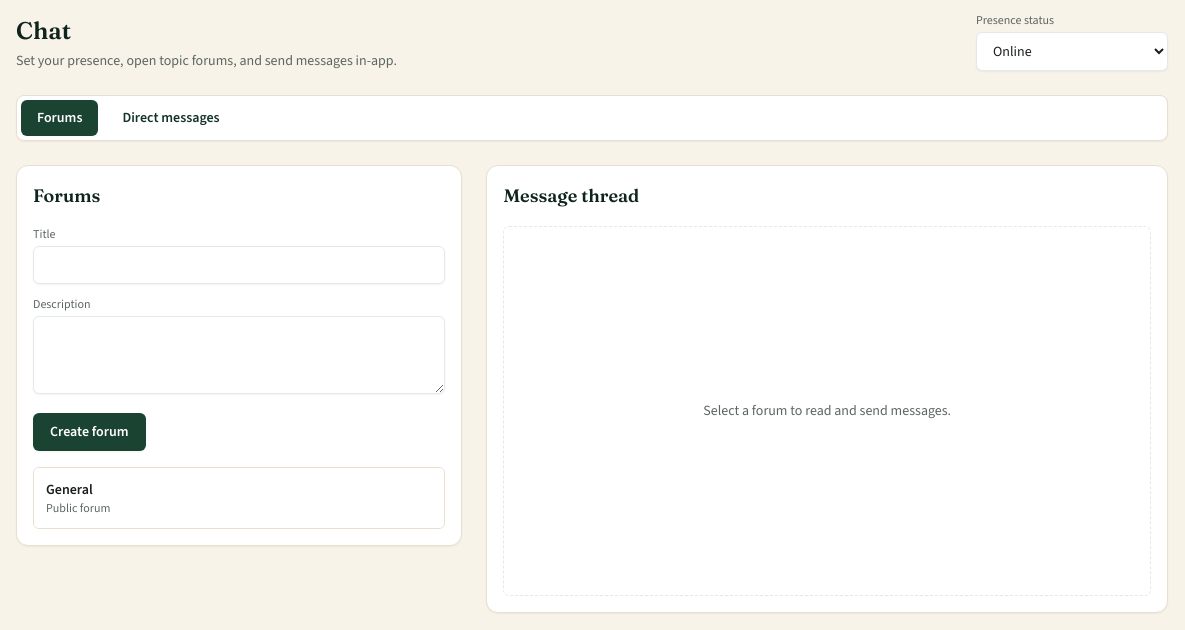
Test case: public forum › renders exactly as before when reactions are off (and when the field is missing)
Click the button "General Public forum" at (69, 490), box 34,468 -> 444,528
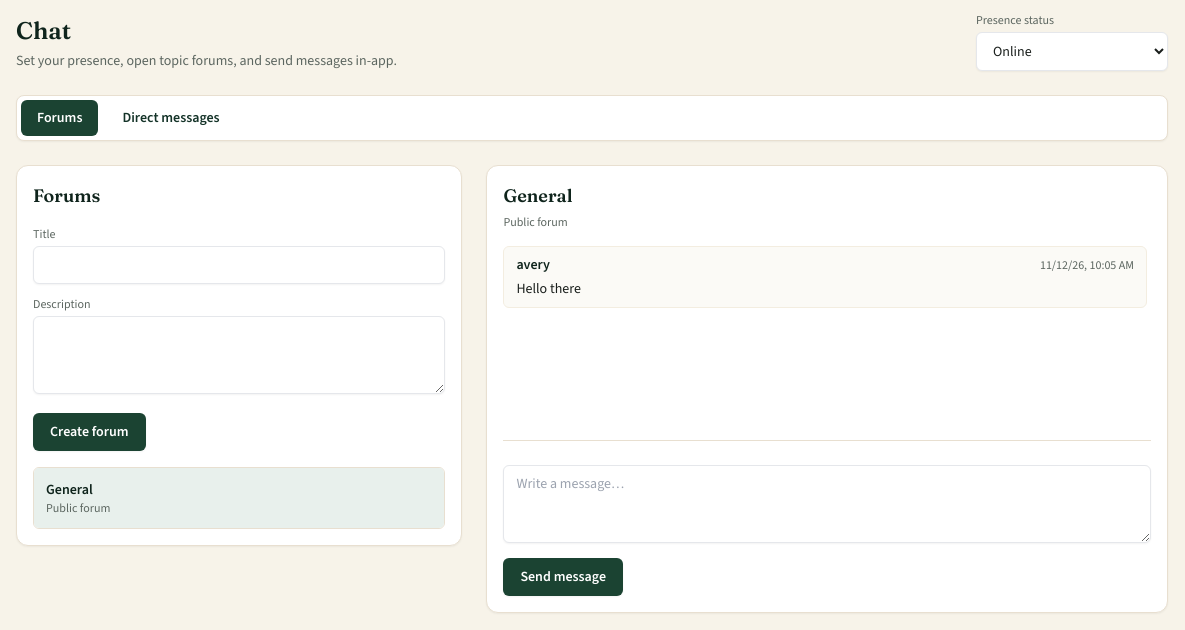
Expected: the button "Send message" is enabled, 503,558 -> 623,596
Result: the text "Hello there" is shown at 516,279 -> 581,298
